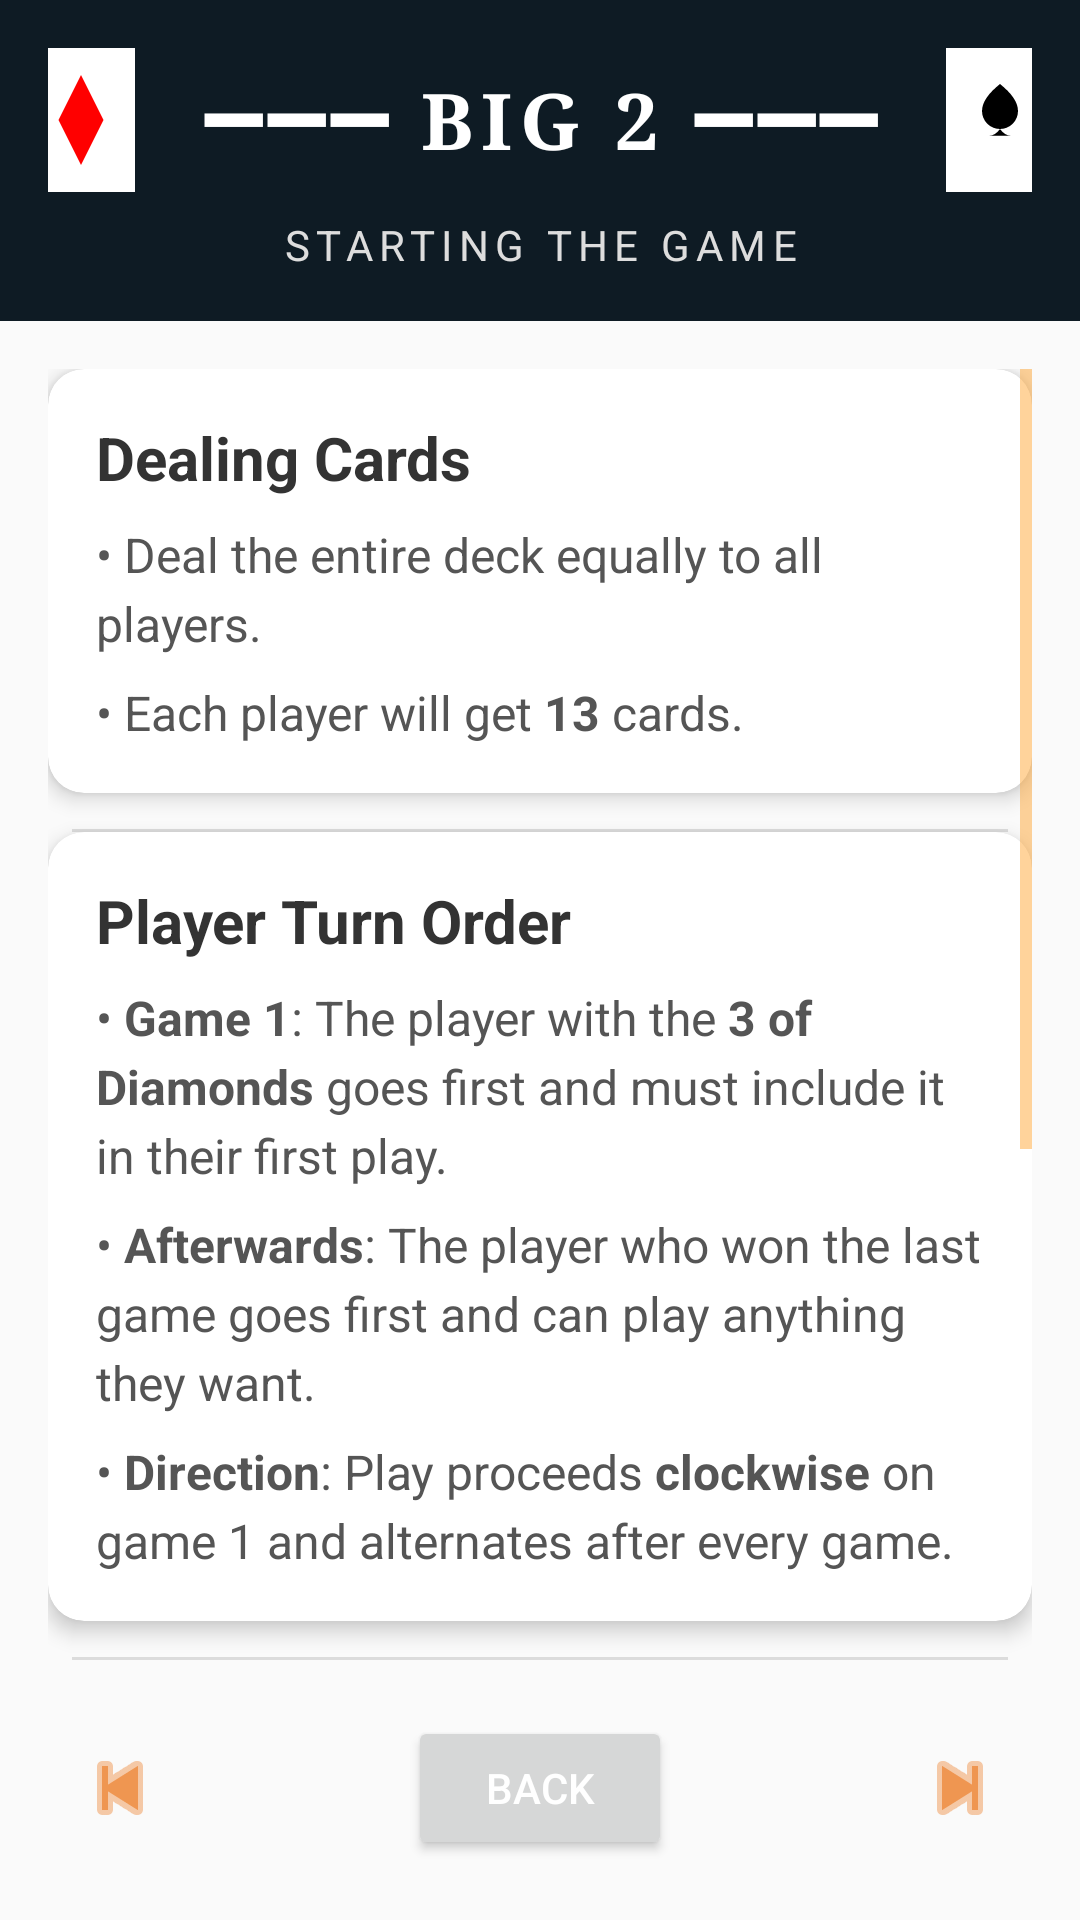

Icon click points for this 1080x1920 phone screenshot, format (x,y):
Next: (960,1788)
Previous: (120,1788)
